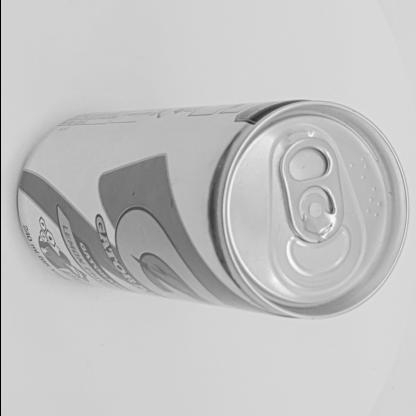alumunium_can: (13, 96, 414, 325)
